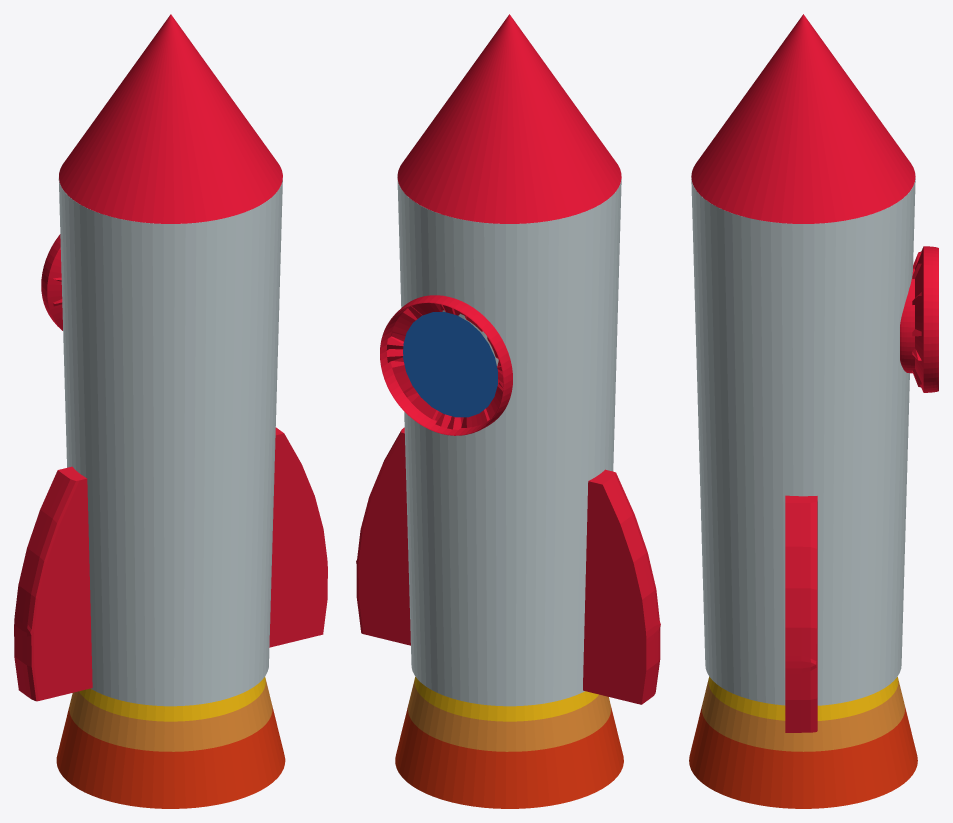
File: rocket.glb
The picture shows the model from 3 angles, left to right: view 1: azimuth 30°, elevation 25°; view 2: azimuth 150°, elevation 25°; view 3: azimuth 270°, elevation 25°; orthographic projection.
Visible parts, largest first — view 1: Rocket_Body, Rocket_Nose, Rocket_Tail, Rocket_Fin.001, Rocket_Fin.002, Rocket_WindowRing.003; view 2: Rocket_Body, Rocket_Nose, Rocket_Tail, Rocket_Fin.001, Rocket_Fin.002, DotG2.003, Rocket_WindowRing.003; view 3: Rocket_Body, Rocket_Nose, Rocket_Tail, Rocket_Fin.002, Rocket_WindowRing.003.
Boxes of the visible parts, left/top/right/bottom form: Rocket_Body: left=58, top=164, right=282, bottom=706; Rocket_Nose: left=59, top=14, right=282, bottom=223; Rocket_Tail: left=56, top=677, right=285, bottom=808; Rocket_Fin.001: left=14, top=466, right=92, bottom=701; Rocket_Fin.002: left=269, top=427, right=327, bottom=647; Rocket_WindowRing.003: left=41, top=234, right=62, bottom=330; Rocket_Body: left=397, top=167, right=621, bottom=706; Rocket_Nose: left=397, top=14, right=621, bottom=223; Rocket_Tail: left=395, top=677, right=623, bottom=808; Rocket_Fin.001: left=583, top=469, right=660, bottom=704; Rocket_Fin.002: left=356, top=427, right=410, bottom=645; DotG2.003: left=403, top=312, right=497, bottom=417; Rocket_WindowRing.003: left=380, top=295, right=512, bottom=435; Rocket_Body: left=691, top=165, right=915, bottom=705; Rocket_Nose: left=691, top=14, right=915, bottom=223; Rocket_Tail: left=689, top=676, right=917, bottom=808; Rocket_Fin.002: left=785, top=495, right=817, bottom=732; Rocket_WindowRing.003: left=900, top=246, right=938, bottom=392.
Bounding box in the file's own units: 0.7583 × 1.84 × 0.5569.
